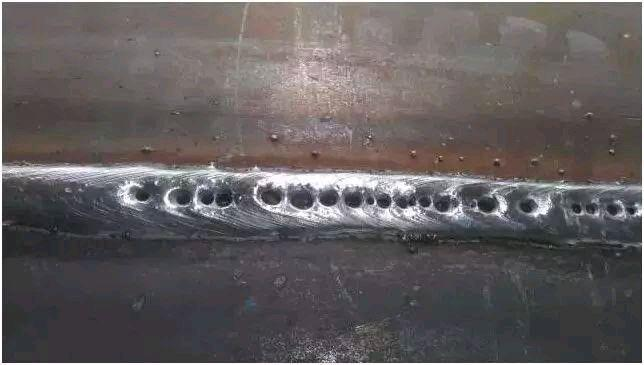porosity: (244, 178, 456, 223), (122, 175, 237, 222), (463, 188, 546, 223), (557, 195, 640, 227)
